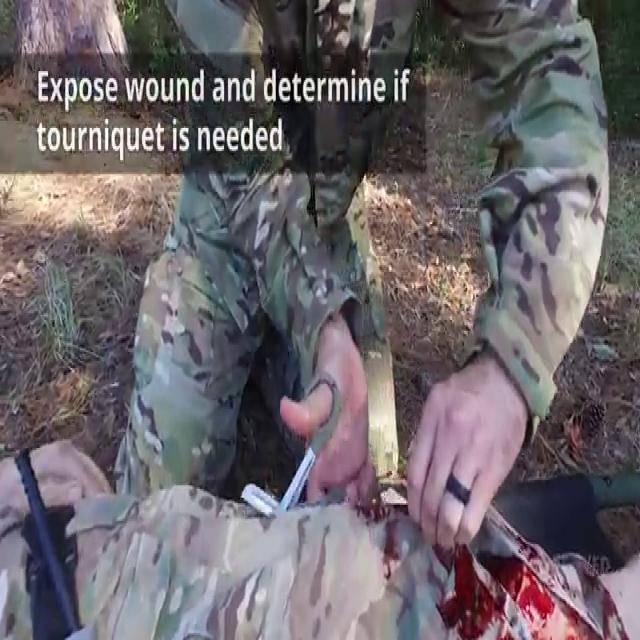scissors: (242, 370, 345, 520)
